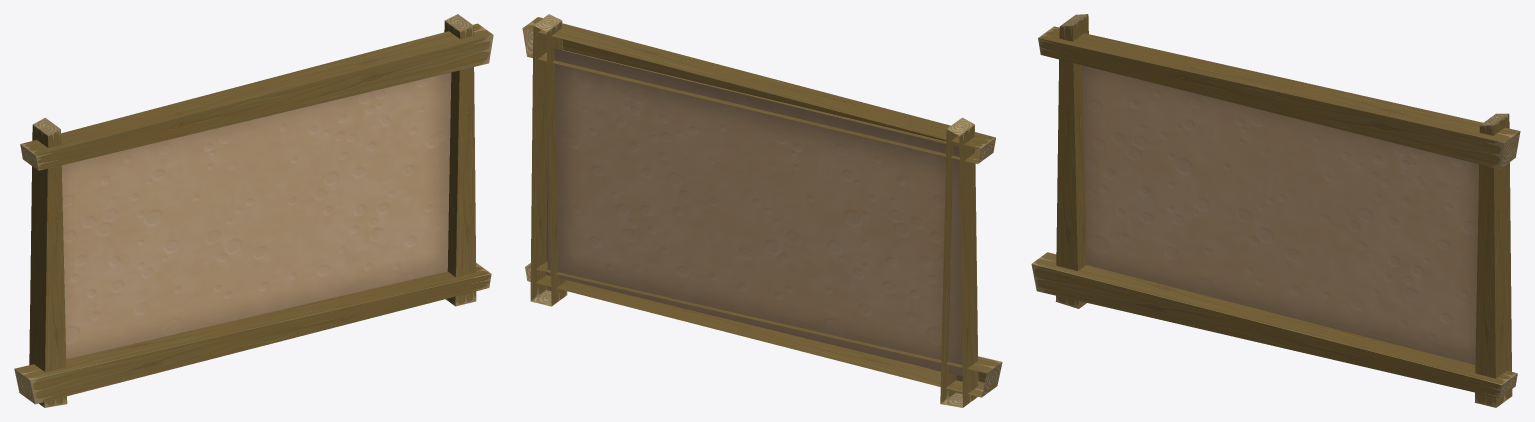
The model's file is Plaque.fbx.
3 views of the same model, side by side, from view 1: azimuth 30°, elevation 25°; view 2: azimuth 150°, elevation 25°; view 3: azimuth 330°, elevation 25° (orthographic).
Visible parts, largest first — view 1: Board1; view 2: Board1; view 3: Board1.
Part boxes in pixels (<box>): Board1: <box>14,14,493,407</box>; Board1: <box>522,14,1002,407</box>; Board1: <box>1031,14,1520,407</box>.
Size of the model in its own units: 25.92 by 14.91 by 1.99.
